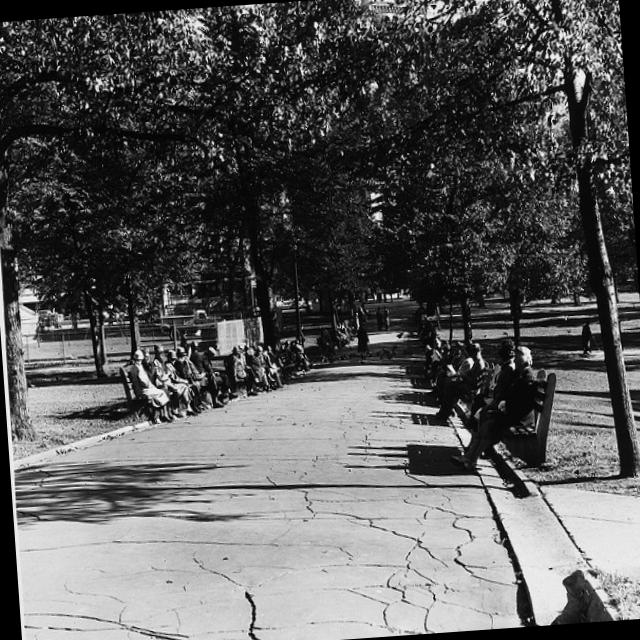Vehicle: (166, 318, 219, 340)
